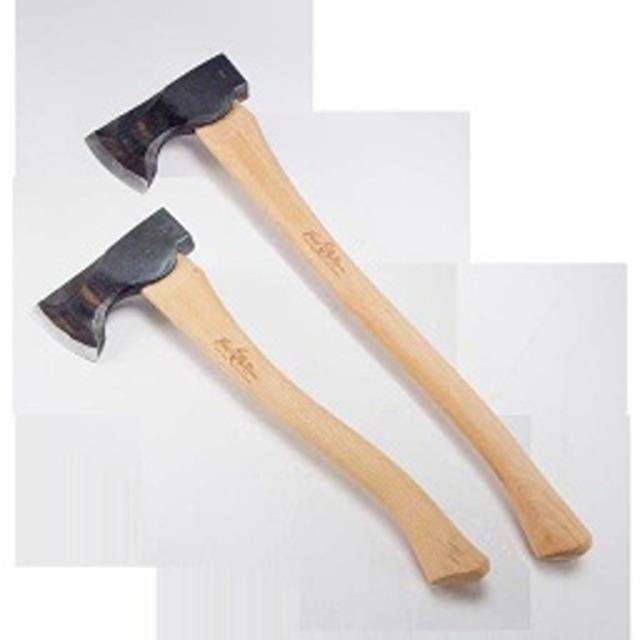ax: (74, 42, 618, 576), (37, 202, 511, 610)
